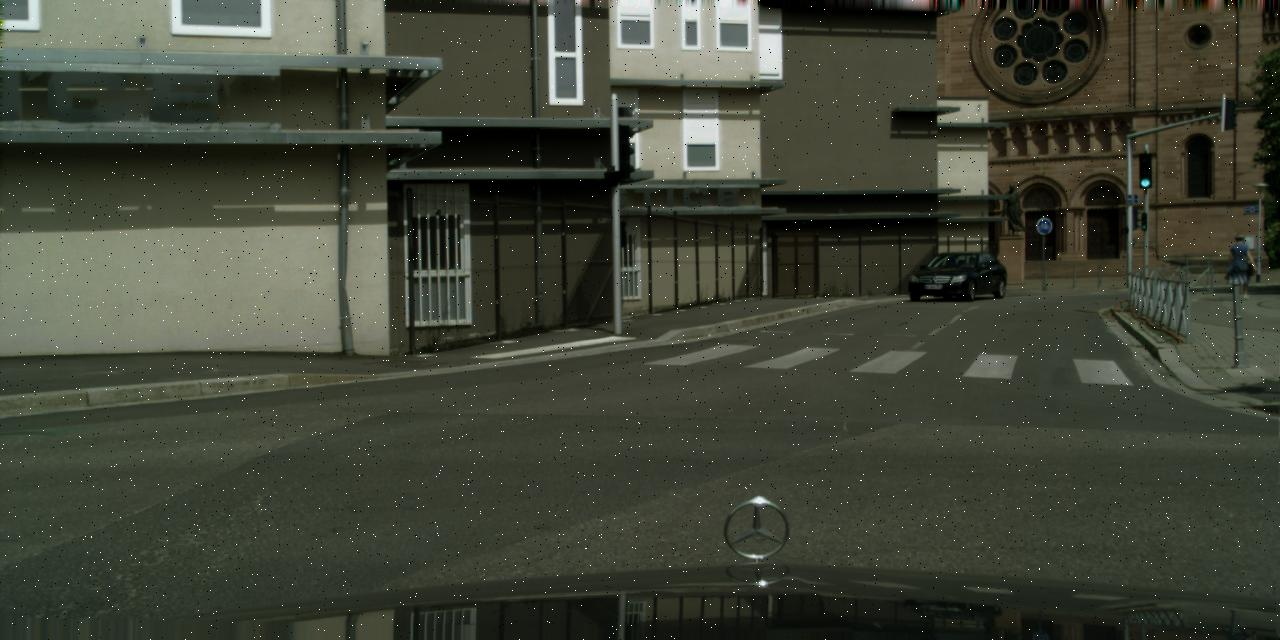ped: (1227, 232, 1254, 298)
